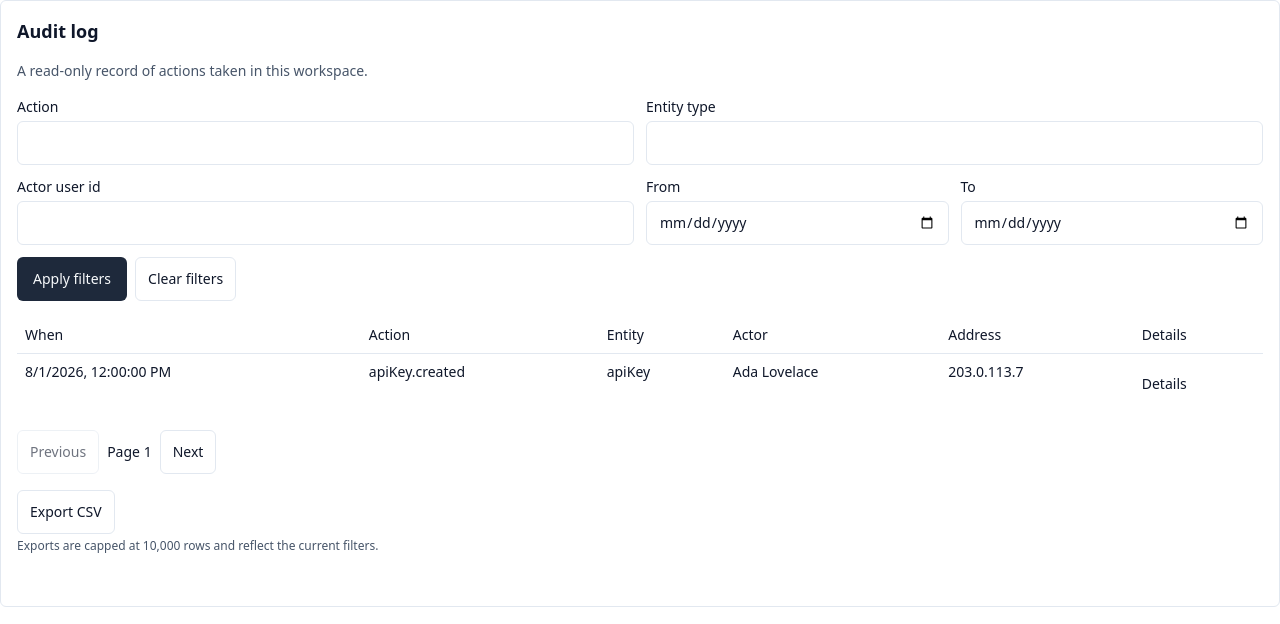
Test case: AuditLog › re-requests with the parsed filter and resets to page 1
Expected: the text "apiKey.created" is shown, [361,354,599,414]
# Move to page 2 first, so the reset is observable.
Step 1. Click the button "Next" → (188, 452), box [160,430,216,474]
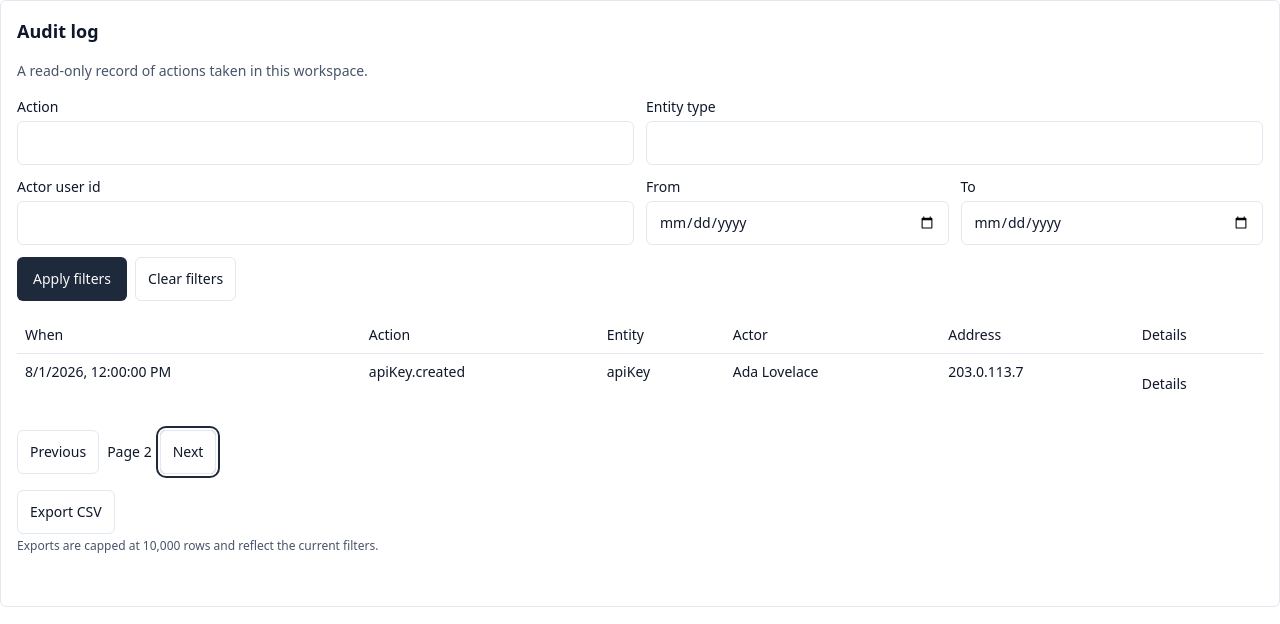
Expected: the text "Page 2" is shown, [107,442,152,462]
Step 2. Type "apiKey.created" into the field labelled "Action" → (326, 143), box [17,121,634,165]
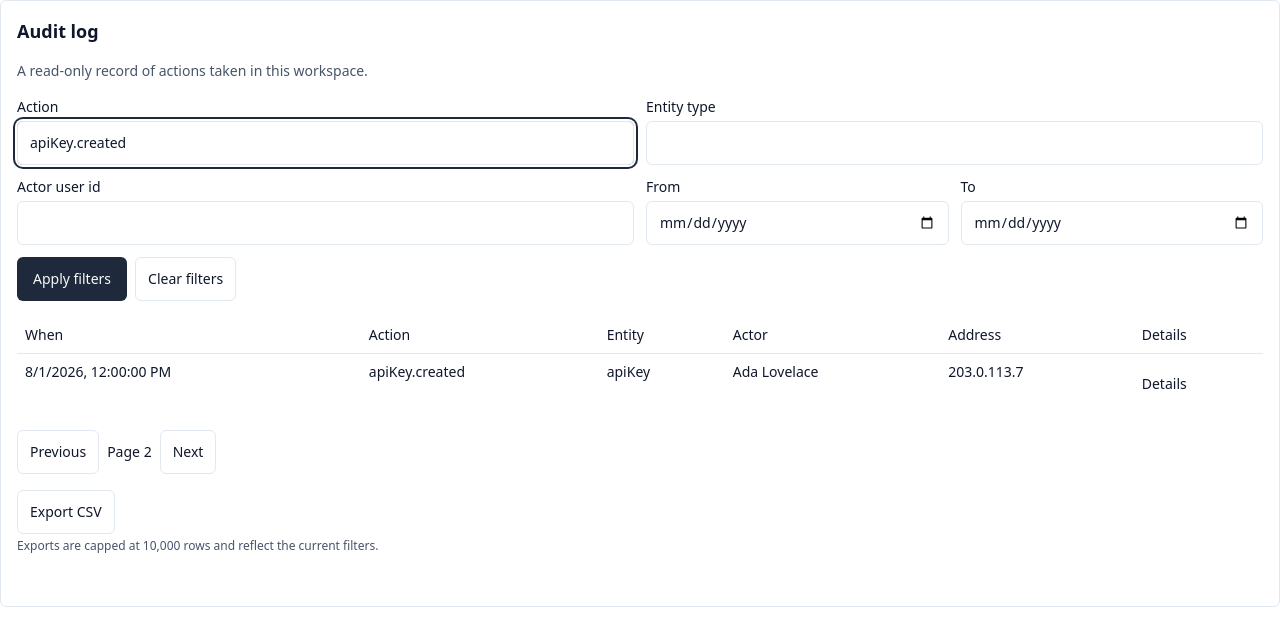
Step 3. Type "50000000-0000-4000-8000-000000000002" into the field labelled "Actor user id" → (326, 223), box [17,201,634,245]
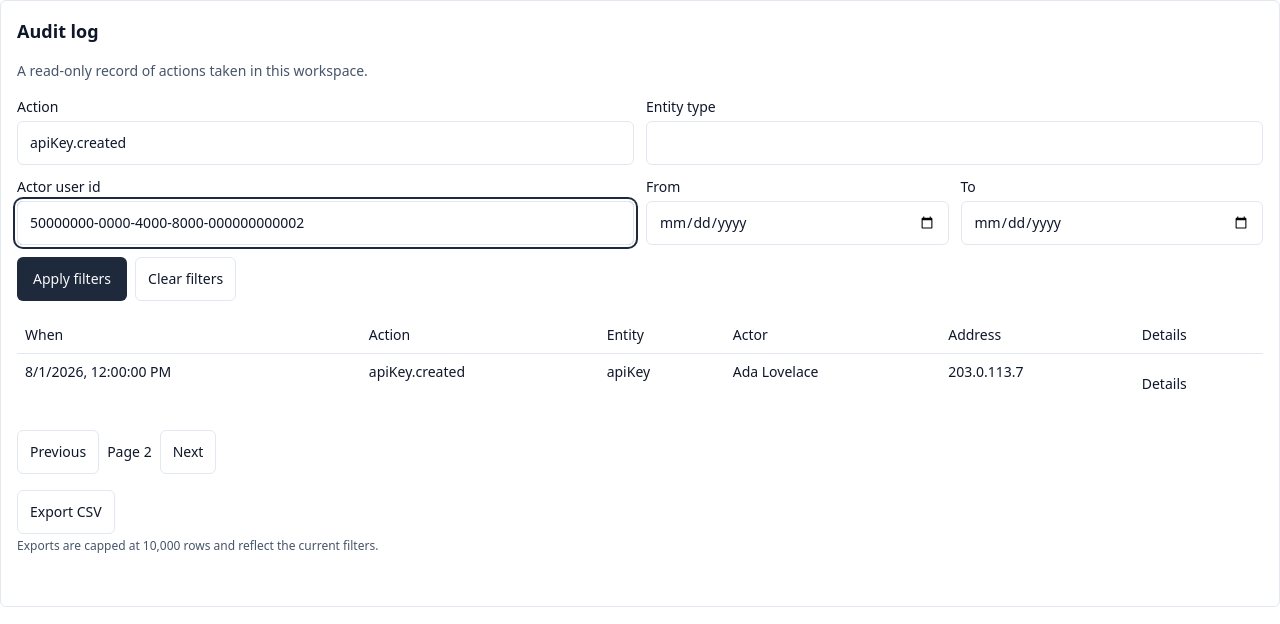
Step 4. Click the button "Apply filters" → (72, 279), box [17,257,127,301]
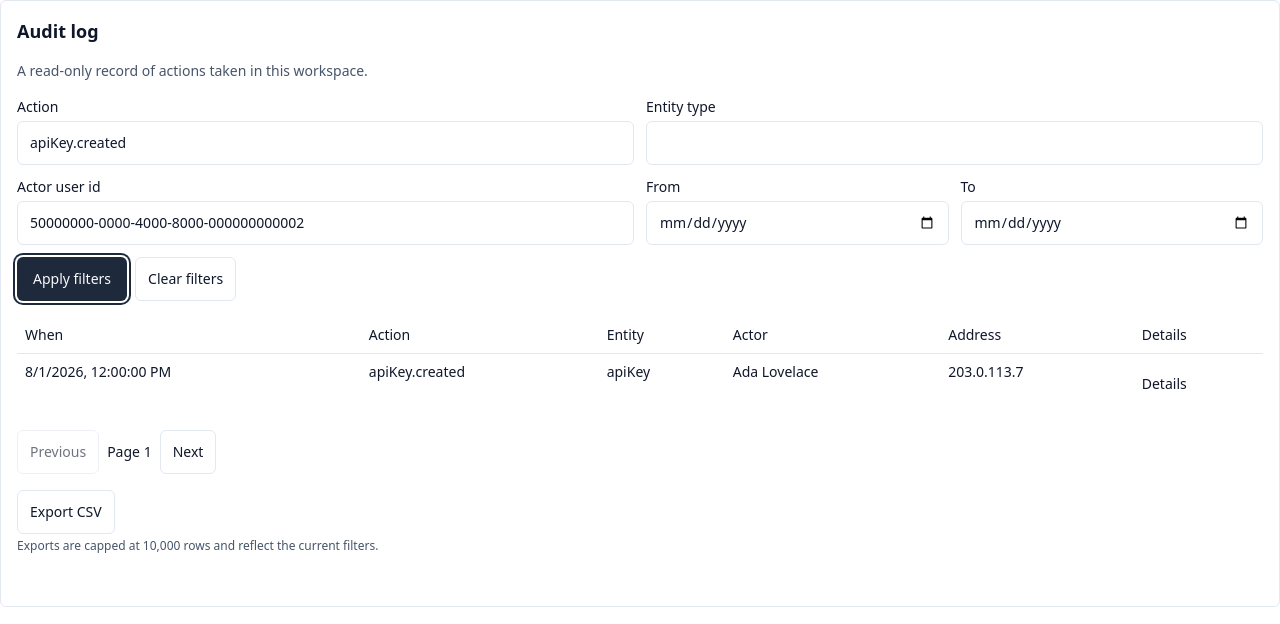
Expected: the text "Page 1" is shown, [107,442,152,462]
